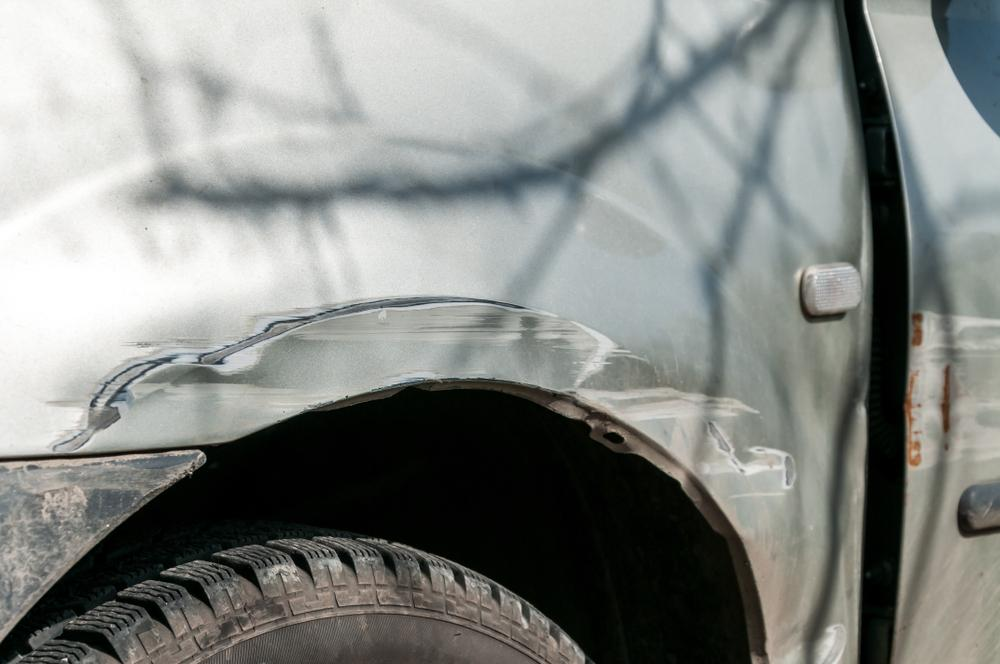scratch: (49, 292, 810, 495), (904, 308, 1000, 472)
